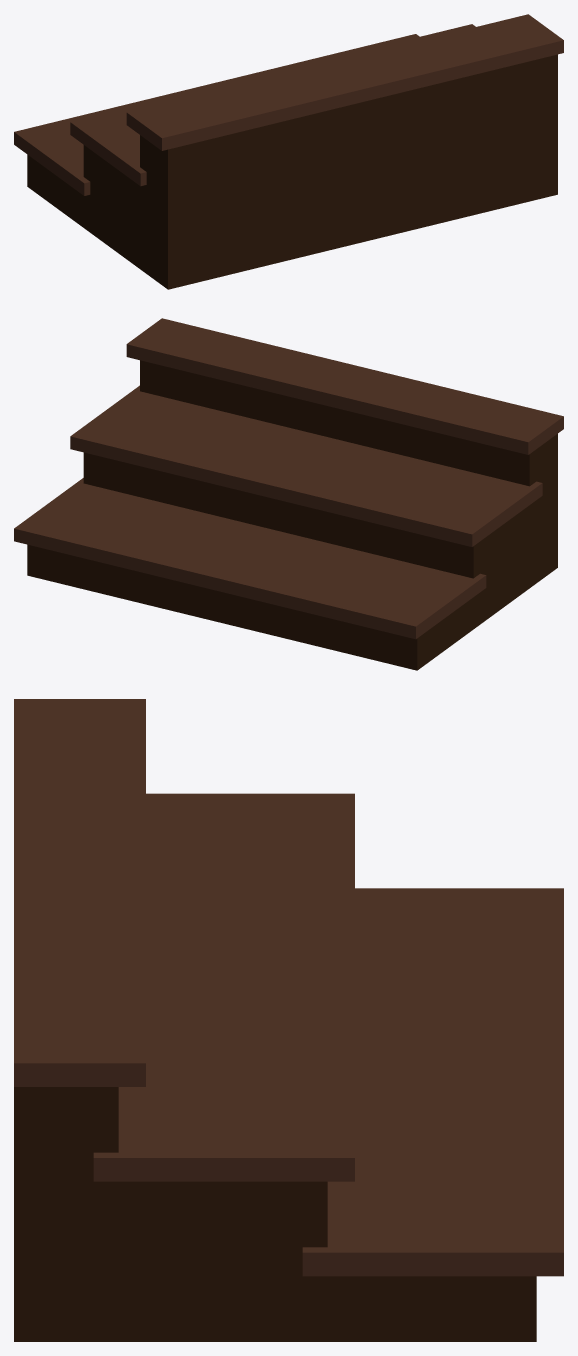
The model's file is MiscShortStairUV.fbx.
The picture shows the model from 3 angles, top to bottom: view 1: azimuth 30°, elevation 25°; view 2: azimuth 150°, elevation 25°; view 3: azimuth 270°, elevation 25°; orthographic projection. The views are drawn at different scales.
Visible parts, largest first — view 1: polySurface38; view 2: polySurface38; view 3: polySurface38.
Boxes of the visible parts, x1=… form: polySurface38: x1=14, y1=14, x2=563, y2=289; polySurface38: x1=14, y1=318, x2=563, y2=670; polySurface38: x1=14, y1=699, x2=563, y2=1341.
Bounding box in the file's own units: 264 × 96 × 168.
